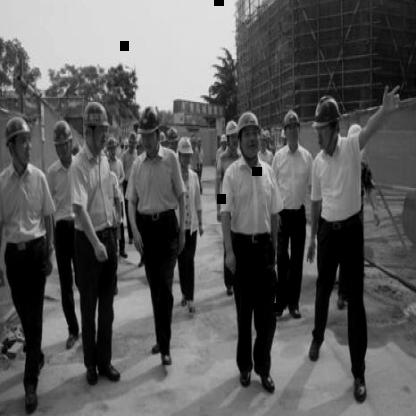helmet: (80, 92, 111, 132), (130, 104, 169, 135), (312, 95, 344, 132), (2, 111, 36, 145), (278, 102, 304, 133), (235, 106, 260, 138), (49, 118, 73, 148), (223, 114, 241, 142), (178, 134, 192, 158)
